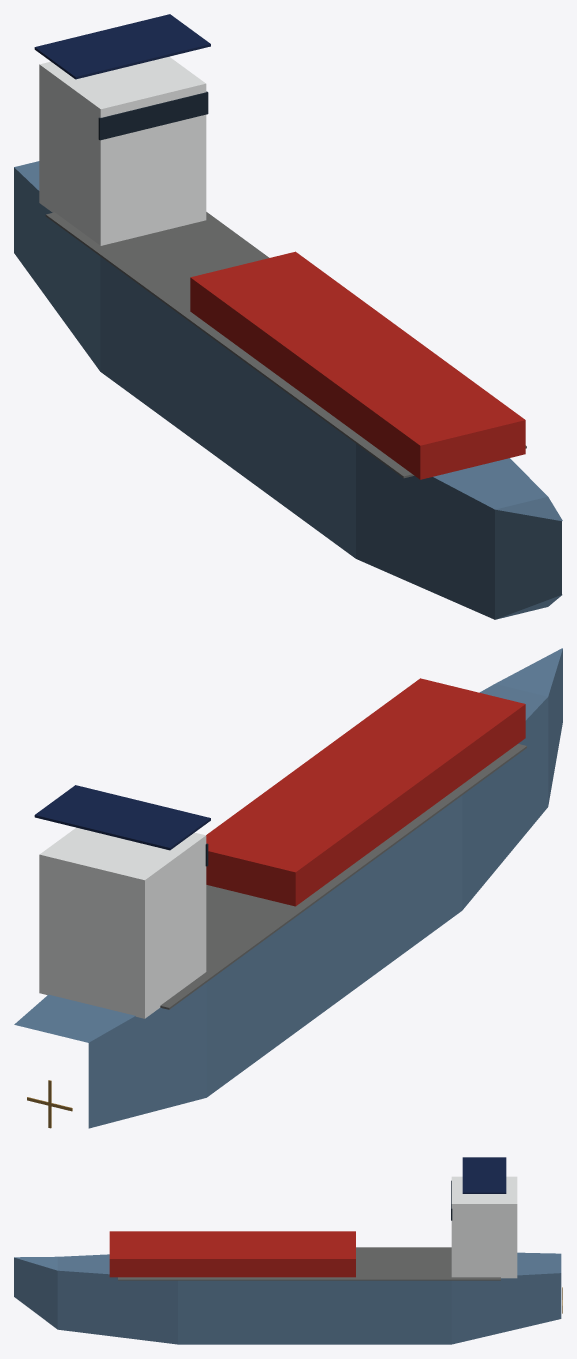
The model's file is veh_naval_merchant_a10_lod2.glb.
3 views of the same model, one above another, from view 1: azimuth 30°, elevation 25°; view 2: azimuth 150°, elevation 25°; view 3: azimuth 270°, elevation 25° (orthographic). The views are drawn at different scales.
Parts seen in each view (by area): view 1: body; view 2: body; view 3: body.
Part boxes in pixels (left/top/right/bottom): body: left=14, top=14, right=562, bottom=619; body: left=14, top=648, right=562, bottom=1128; body: left=14, top=1157, right=561, bottom=1344.
Bounding box in the file's own units: 5.81 × 11.92 × 38.13.
